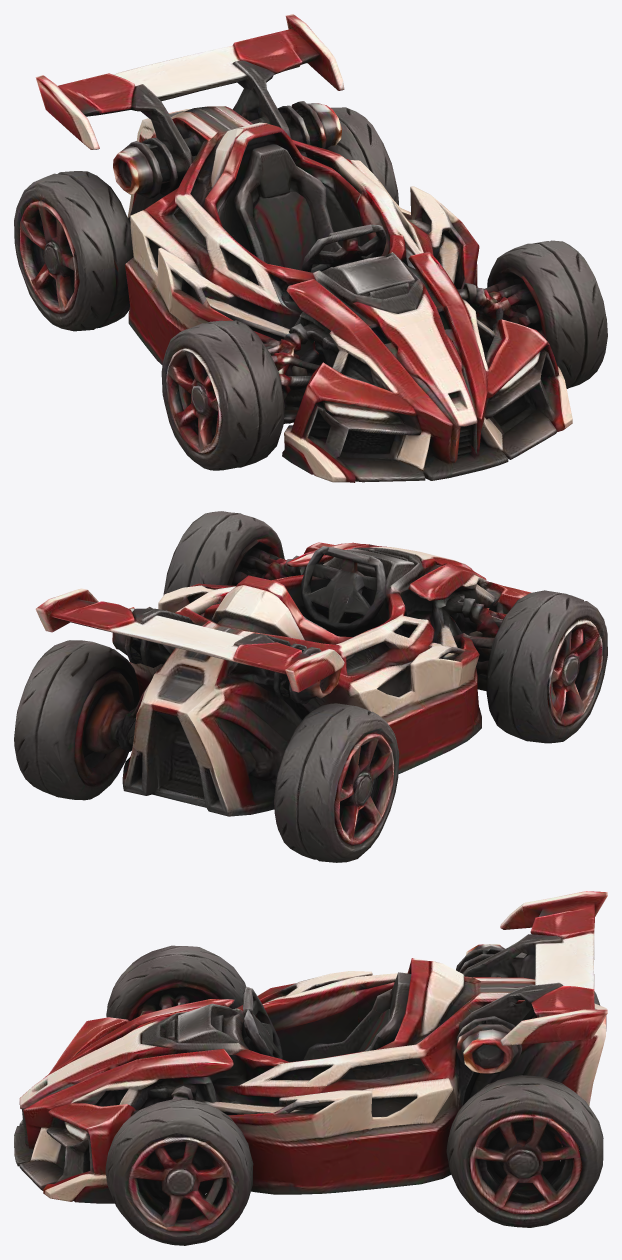
Rendered from 04-crimson-kestrel.glb.
3 renders of one model, top to bottom at view 1: azimuth 30°, elevation 25°; view 2: azimuth 150°, elevation 25°; view 3: azimuth 270°, elevation 25°, orthographic. The views are drawn at different scales.
Parts seen in each view (by area): view 1: 04-crimson-kestrel; view 2: 04-crimson-kestrel; view 3: 04-crimson-kestrel.
Boxes of the visible parts, left/top/right/bottom form: 04-crimson-kestrel: left=14, top=14, right=607, bottom=482; 04-crimson-kestrel: left=14, top=511, right=607, bottom=862; 04-crimson-kestrel: left=14, top=891, right=607, bottom=1245.
Size of the model in its own units: 1.37 by 0.7432 by 1.9.
Materials: 1 (1 with a texture image).
